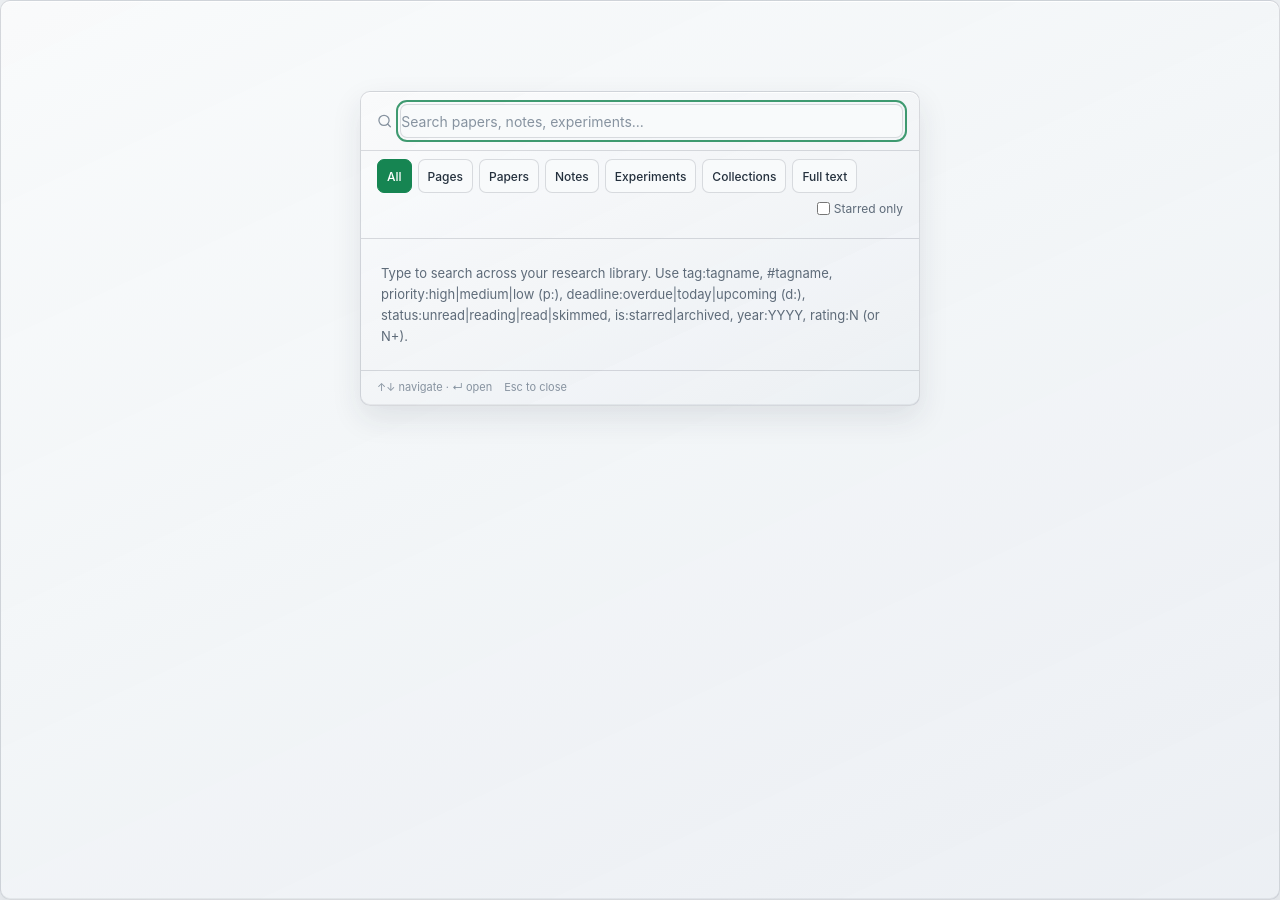
Test: GlobalSearch full-text mode › replaces a local metadata match with the richer full-text hit
The image size is (1280, 900).
Click the button with test id "fulltext-toggle" at (825, 176), box [792,159,857,193]
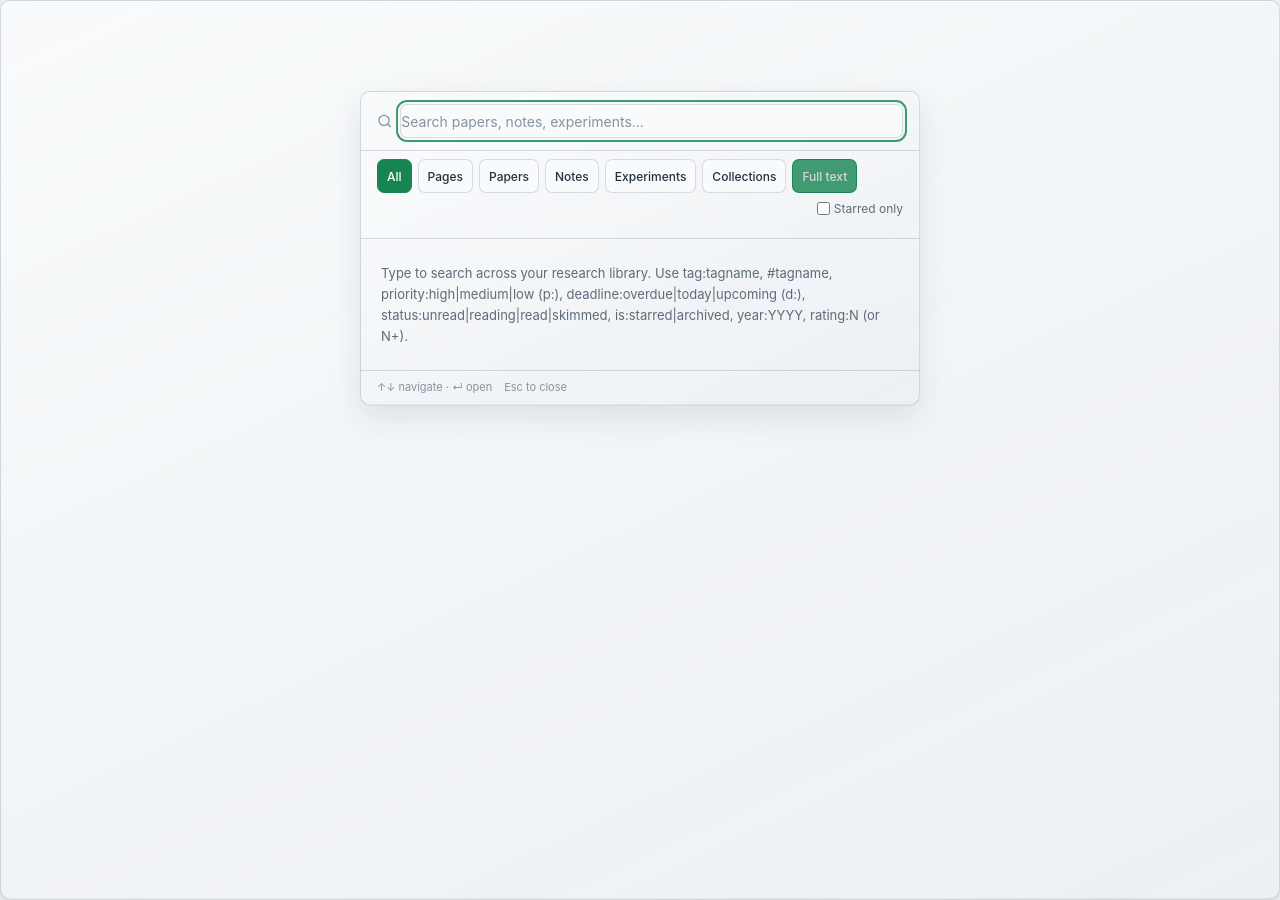
Type "attention" into the field with placeholder "Search papers, notes, experiments..." at (652, 121), box [400,104,903,138]
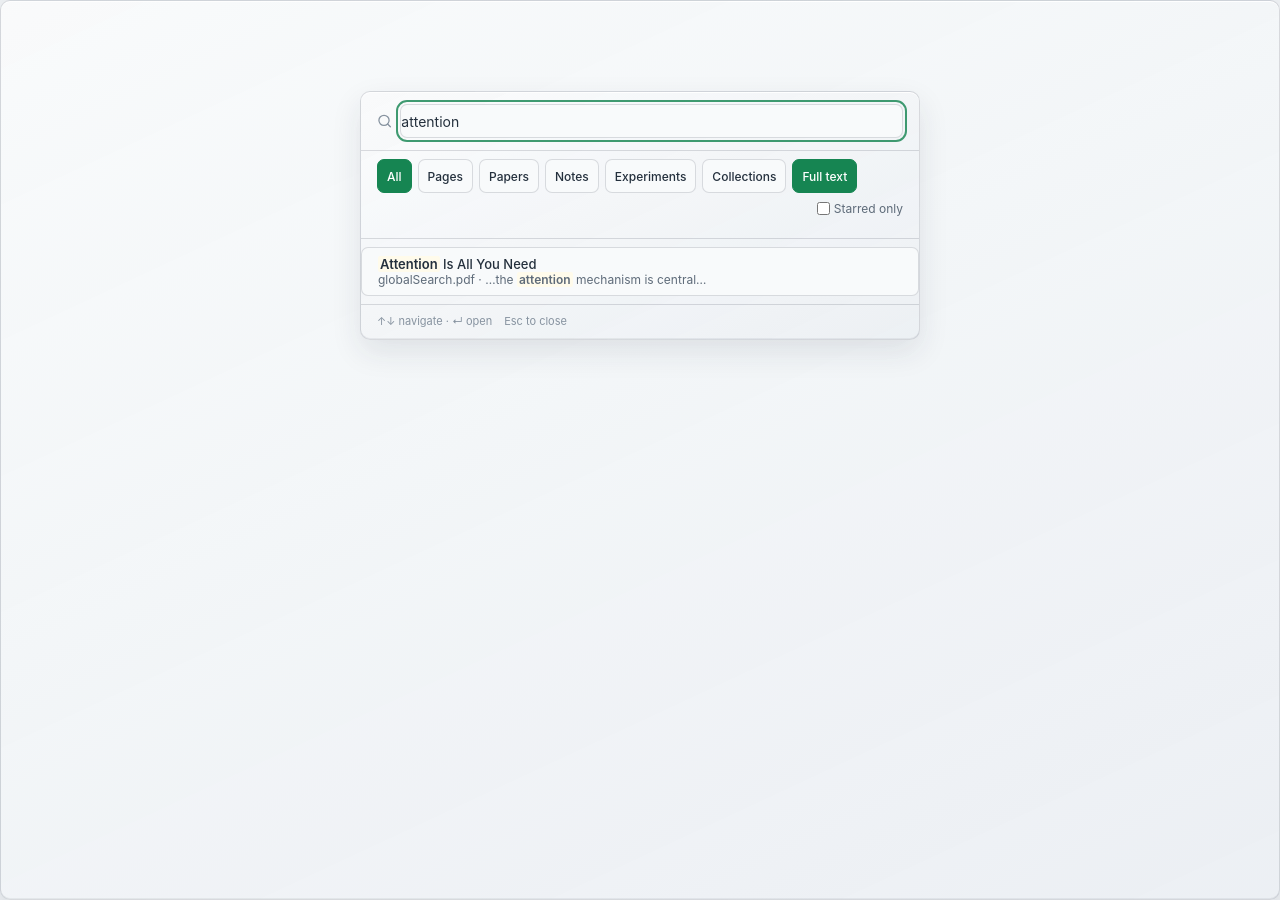
Result: the button with test id "search-result" shows "the attention mechanism is central" at [361,247,919,296]
